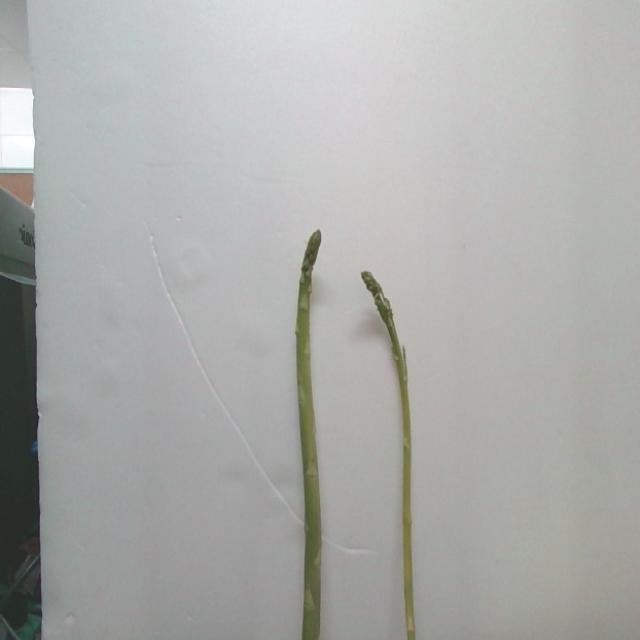aspargus: (359, 271, 417, 640), (288, 231, 321, 640)
